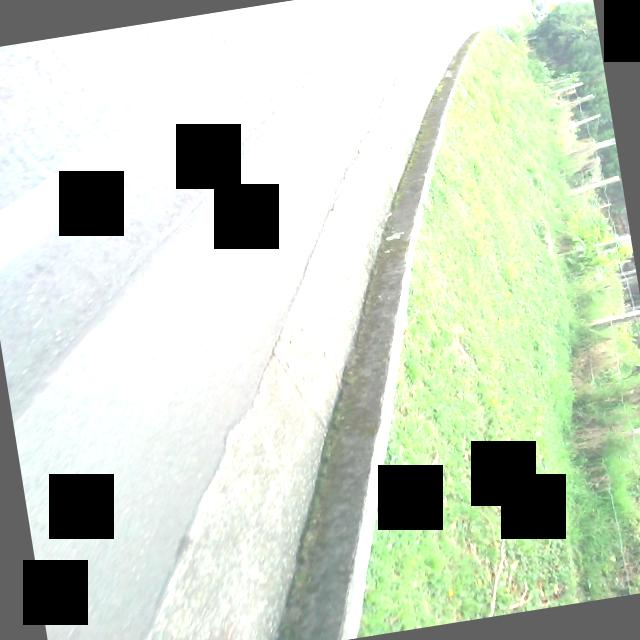DITCH: (0, 0, 636, 640), (0, 0, 629, 640)
